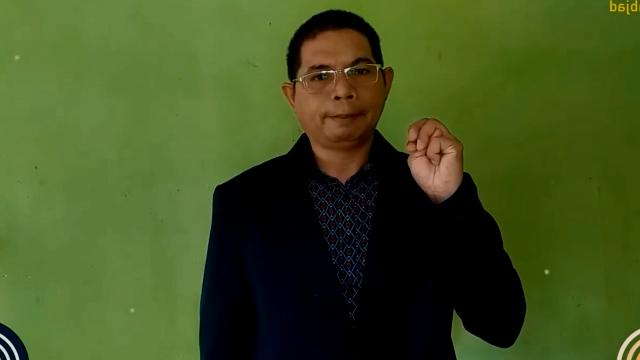M: (402, 115, 468, 186)
